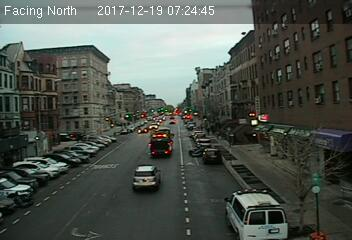car: (132, 165, 163, 191), (202, 147, 222, 162)
